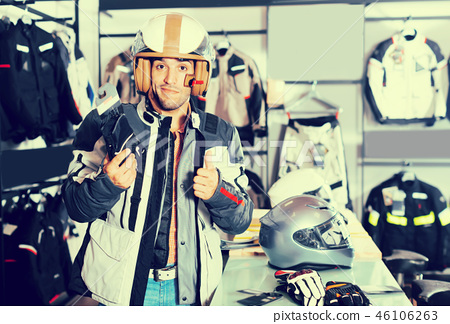helmet: (123, 12, 221, 85)
